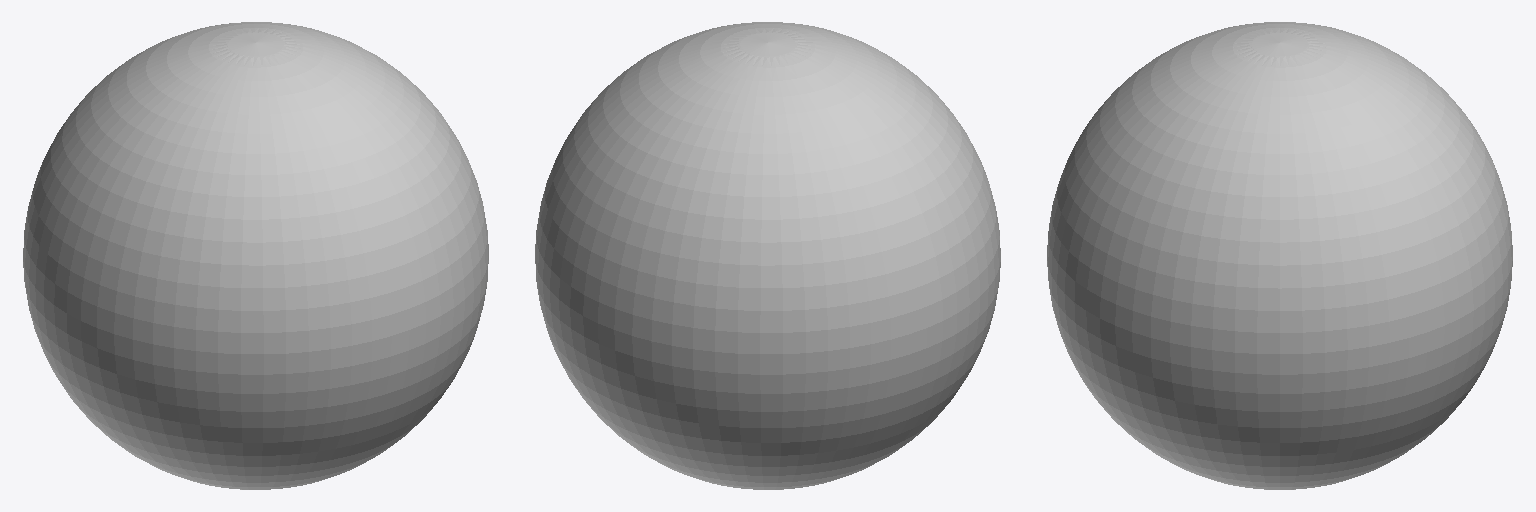
3 views of the same model, side by side, from view 1: azimuth 30°, elevation 25°; view 2: azimuth 150°, elevation 25°; view 3: azimuth 270°, elevation 25° (orthographic).
Visible parts, largest first — view 1: AOSpher; view 2: AOSpher; view 3: AOSpher.
Boxes of the visible parts, <box> form: AOSpher: <box>23,22,488,489</box>; AOSpher: <box>535,22,1000,489</box>; AOSpher: <box>1047,22,1512,489</box>.
Bounding box in the file's own units: 19.74 × 19.95 × 19.74.